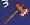axe: (1, 1, 30, 25)
